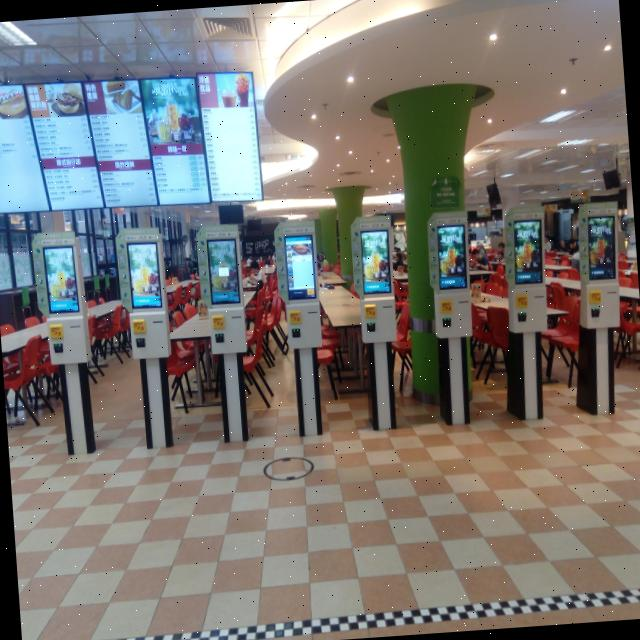orderKiosk: (39, 242, 87, 366), (122, 238, 170, 358), (578, 208, 624, 327), (203, 231, 247, 355), (279, 228, 323, 348), (354, 222, 398, 342), (507, 214, 550, 330), (432, 220, 474, 336)
